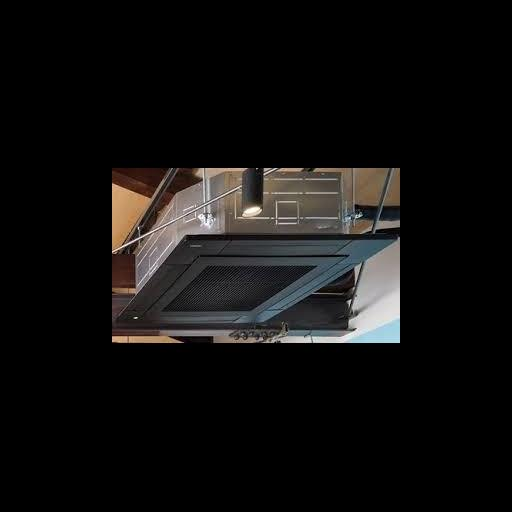4-way-ac: (145, 254, 353, 330)
